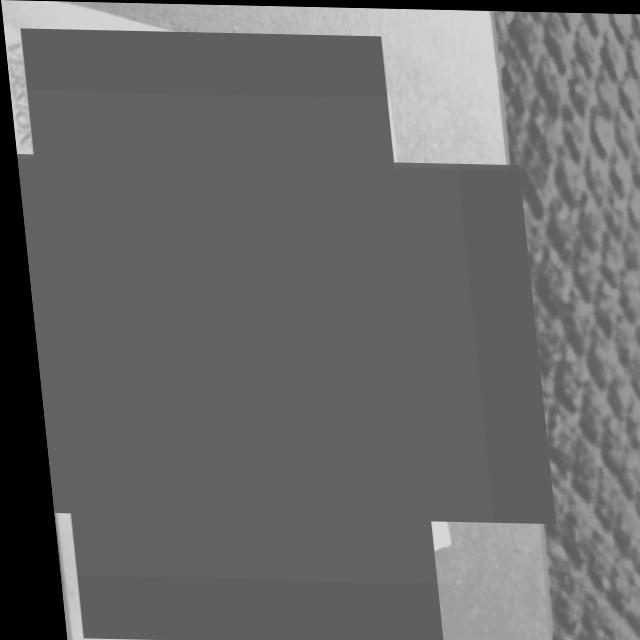qr_code: (7, 90, 487, 583)
